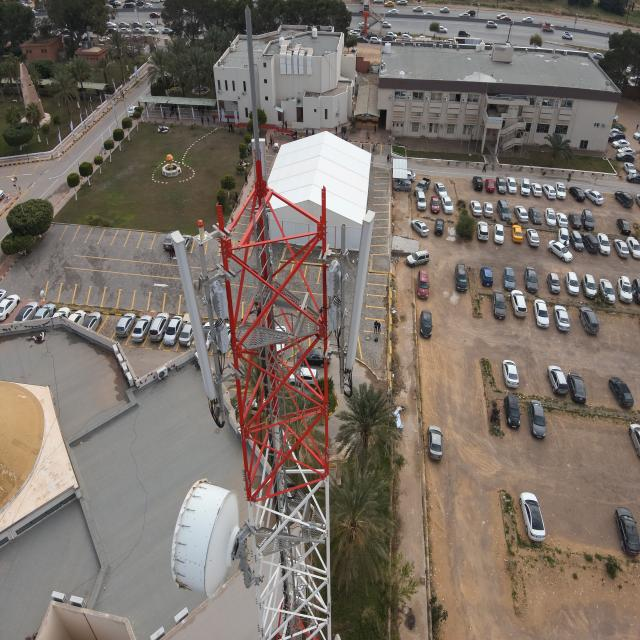Ground Based: (173, 4, 354, 640)
